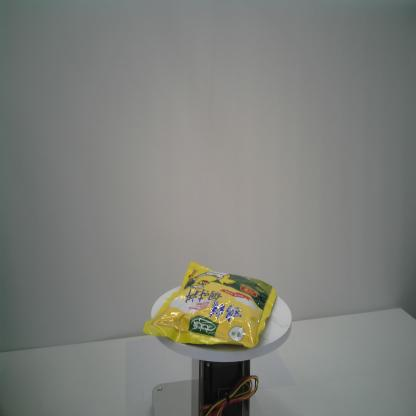Seasoner: (142, 260, 277, 348)
